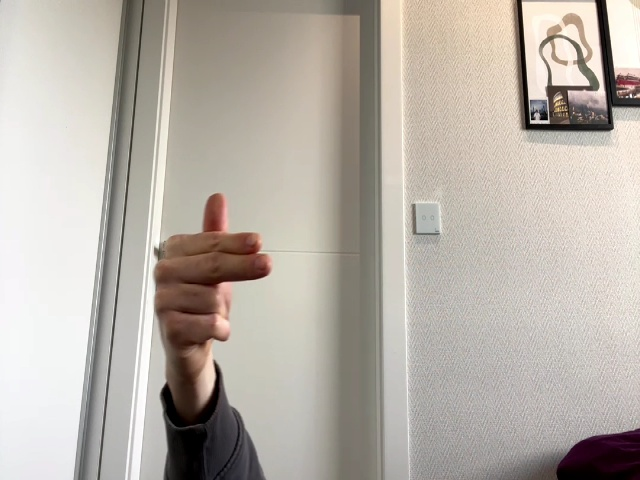N: (153, 193, 271, 352)
